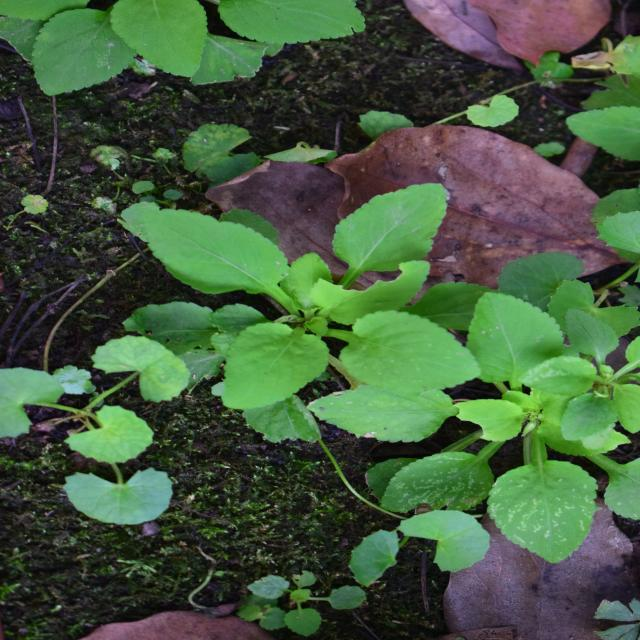Viola: (176, 148, 460, 515)
